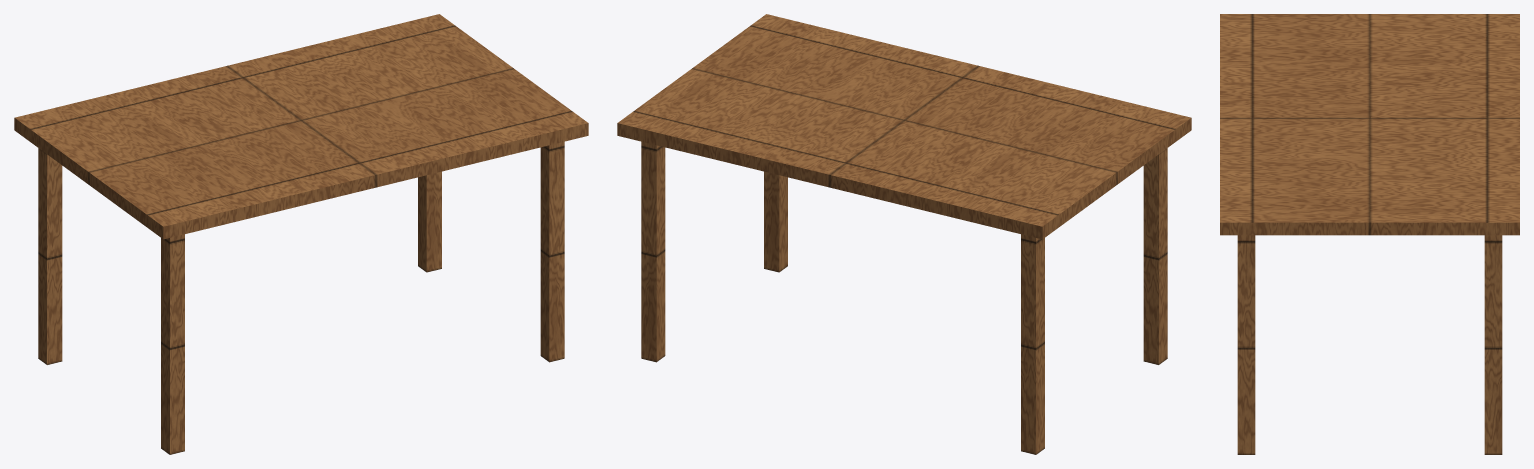
File: Etkezoasztal_140.obj
3 renders of one model, left to right at view 1: azimuth 30°, elevation 25°; view 2: azimuth 150°, elevation 25°; view 3: azimuth 270°, elevation 25°, orthographic.
Bounding box in the file's own units: 1.4 × 0.75 × 0.85.
1 material, 1 textured.
